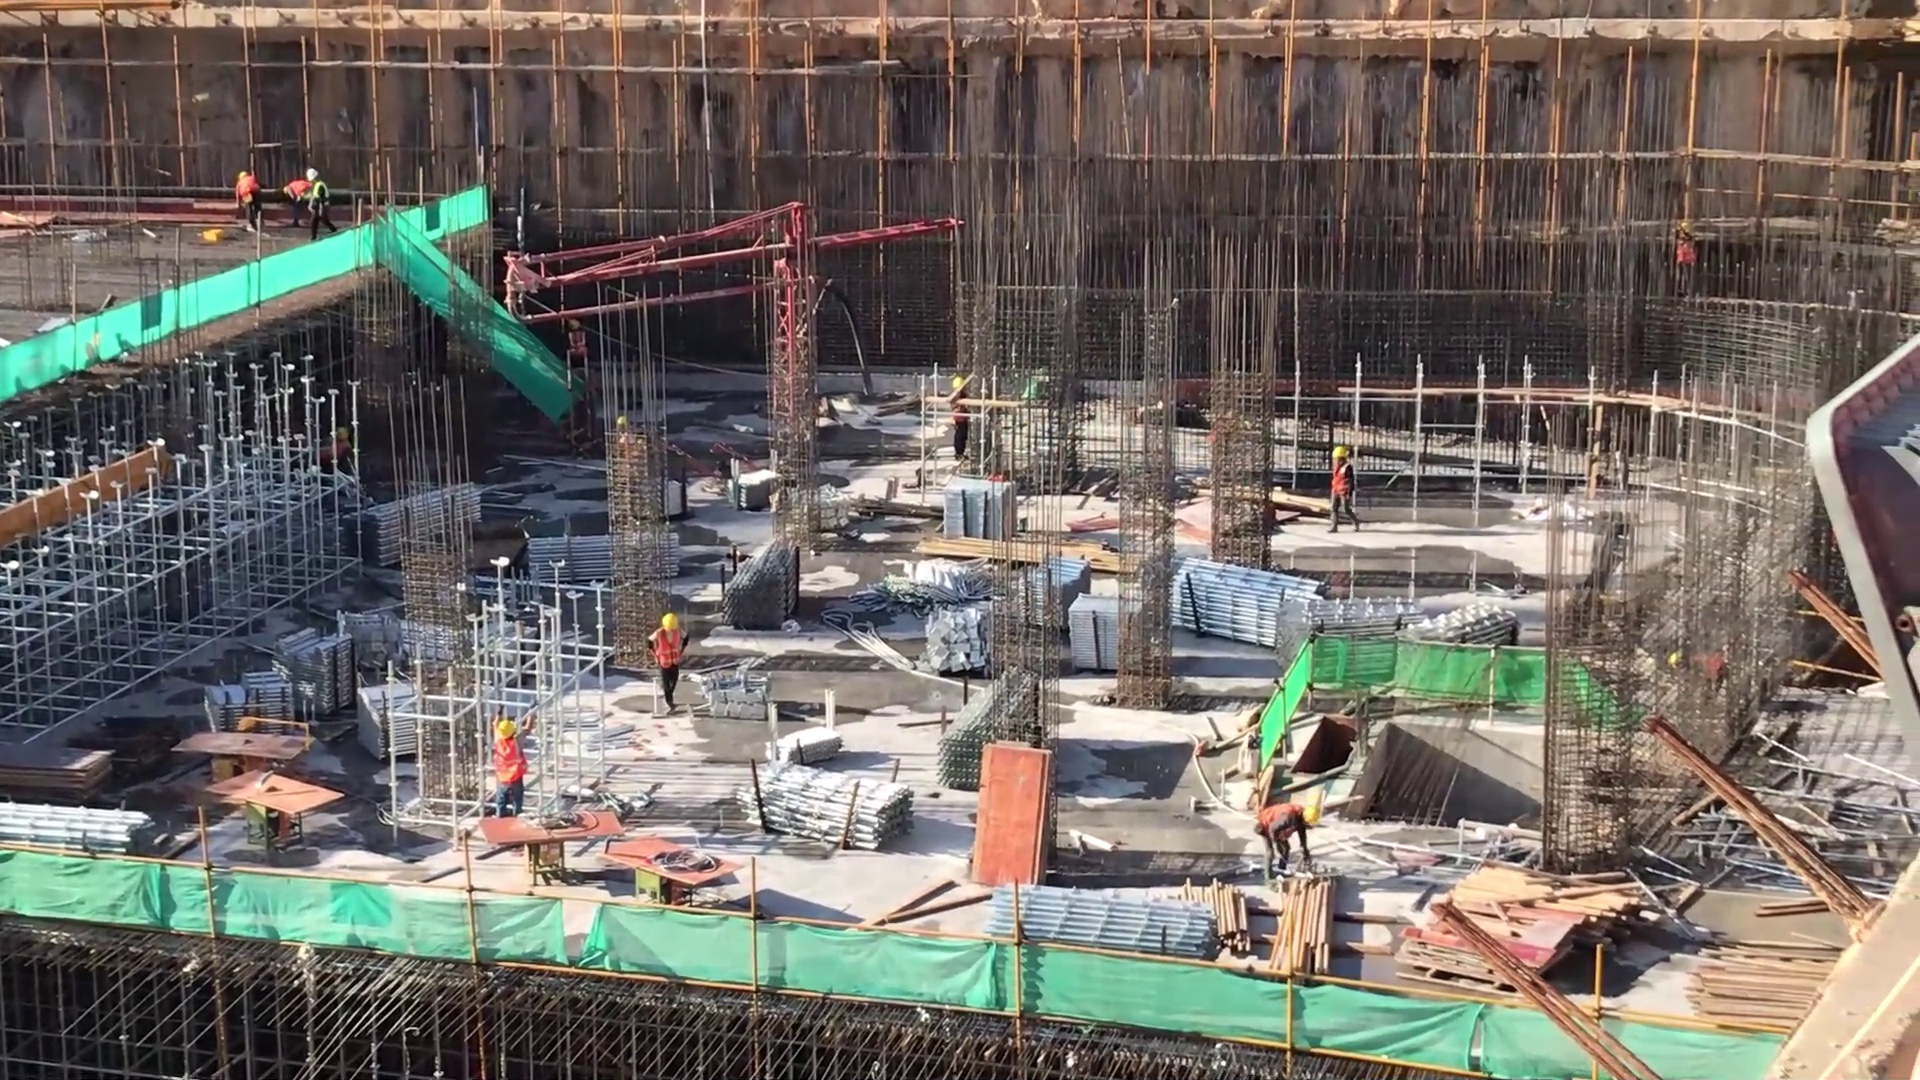brick: (922, 603, 990, 685)
cutter: (464, 798, 627, 890), (199, 763, 346, 861), (603, 840, 761, 912), (177, 723, 310, 786)
helmet: (493, 716, 526, 744), (655, 611, 682, 636), (1303, 803, 1322, 833), (947, 370, 971, 394), (1327, 445, 1351, 465), (568, 317, 583, 332), (305, 167, 320, 180)
person: (477, 708, 537, 822), (1252, 802, 1326, 890), (643, 609, 691, 723), (1323, 442, 1360, 554), (230, 158, 266, 252), (558, 311, 593, 383), (947, 372, 975, 458), (300, 167, 332, 239), (277, 171, 308, 237)
scaffold: (971, 878, 1237, 973), (738, 755, 913, 862), (1385, 593, 1525, 723), (1169, 553, 1322, 661), (1282, 585, 1437, 690), (941, 660, 1046, 803), (1, 792, 174, 876), (343, 479, 491, 569), (522, 515, 684, 582), (719, 536, 817, 635), (191, 657, 296, 751), (354, 665, 437, 770), (277, 622, 354, 718), (1026, 543, 1088, 642)
vest: (1252, 799, 1302, 846), (490, 735, 529, 794), (657, 625, 683, 675), (1330, 461, 1354, 505), (568, 329, 586, 363), (237, 177, 260, 201), (289, 181, 311, 204), (311, 182, 330, 208)
wood: (1684, 943, 1843, 1054)
